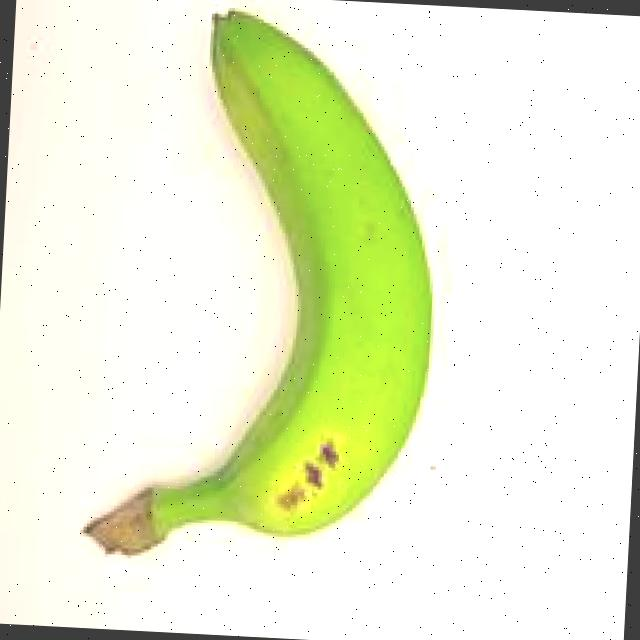Unripe: (71, 0, 454, 594)
